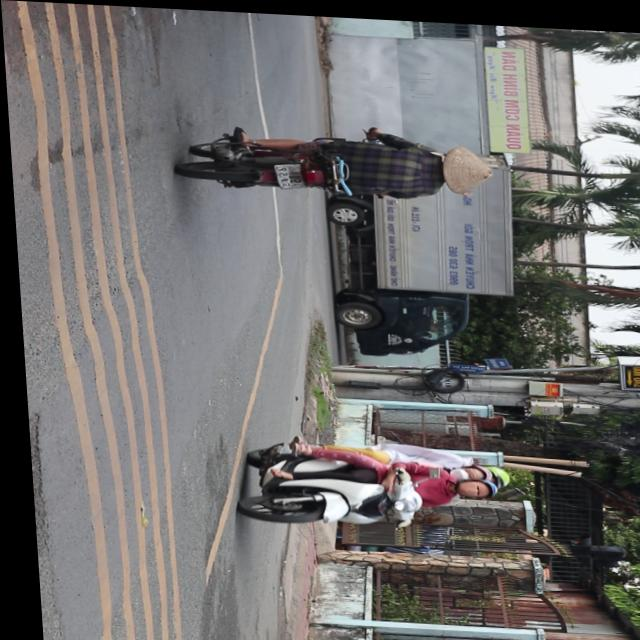helmet: (446, 474, 495, 498), (455, 461, 504, 483)
licenseplate: (226, 432, 498, 536), (176, 119, 498, 205)
motorcyclist: (429, 141, 498, 194)
nohelmet: (276, 161, 301, 186)
